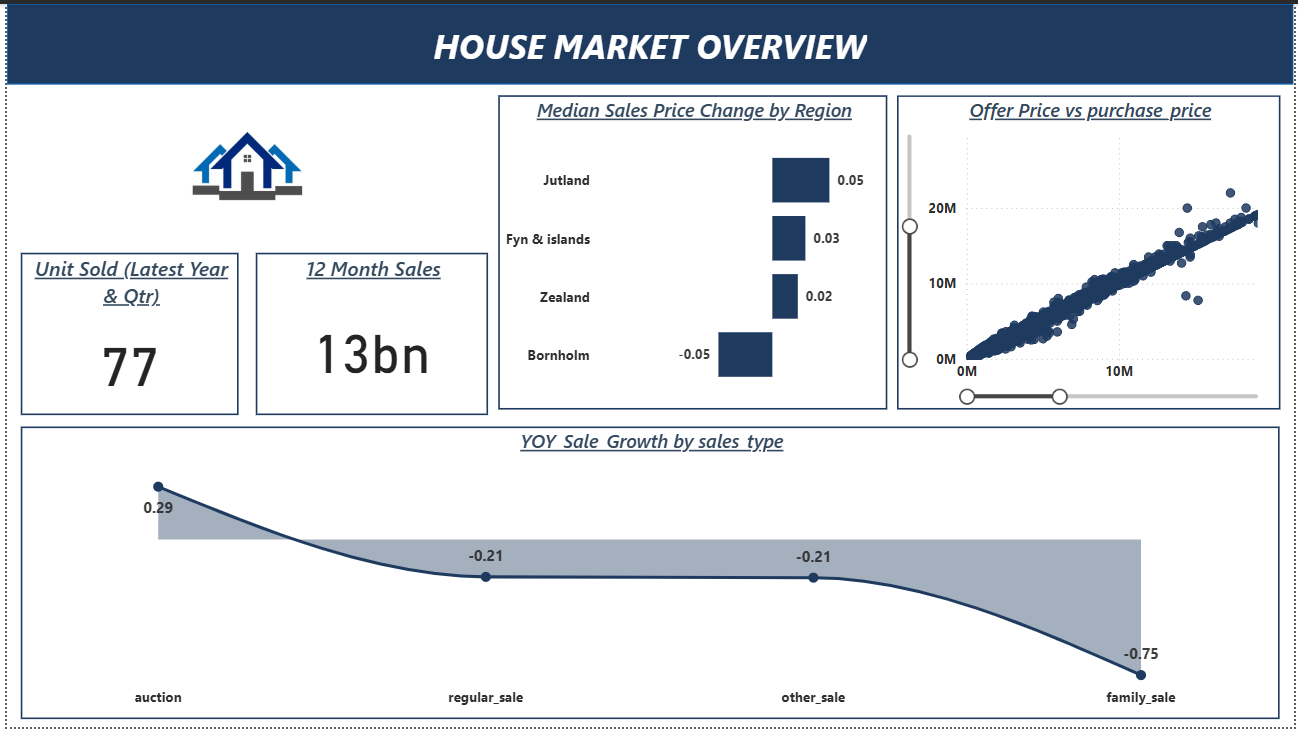

The page's visual inventory and layout, read from the dashboard file:
{"tool":"powerbi","page":{"name":"HOUSE MARKET OVERVIEW","canvas":[1280,720],"ordinal":0},"visuals":[{"type":"image","box":[0,79.6,478.9,163.3],"z":0},{"type":"shape","box":[0,0,1280.3,80],"z":1000},{"type":"card","title":"Unit Sold (Latest Year & Qtr)","fields":{"Values":["Measure Table 1.Units Sold In Latest Year & Quarter"]},"box":[14.3,247.1,217.1,161.4],"z":2000},{"type":"scatterChart","title":"Offer Price vs purchase_price","fields":{"X":["Housing.Offer Price"],"Y":["Housing.purchase_price"]},"box":[885.7,91.4,381.4,312.9],"z":3000},{"type":"card","title":"12 Month Sales","fields":{"Values":["Measure Table 1.Last 12 Month Sales"]},"box":[247.1,247.1,231.4,161.4],"z":4000},{"type":"lineChart","fields":{"Y":["Measure Table 1.YOY_Sale_Growth"],"Category":["Housing.sales_type"]},"box":[14.3,420,1252.9,291.4],"z":5000},{"type":"barChart","title":"Median Sales Price Change by Region","fields":{"Category":["Housing.region"],"Y":["Measure Table 1.Median Sales Price Change"]},"box":[488.6,91.4,387.1,312.9],"z":6000}]}

Visuals, with their boxes in screenshot pixels (x1, y1, x2, y2), scaled from the page's 1280x720 canvas onto the 1298x729 screenshot:
image: <region>0, 81, 486, 246</region>
shape: <region>0, 0, 1297, 81</region>
"Unit Sold (Latest Year & Qtr)" card: <region>15, 250, 235, 414</region>
"Offer Price vs purchase_price" scatterChart: <region>898, 93, 1285, 409</region>
"12 Month Sales" card: <region>251, 250, 485, 414</region>
lineChart - Measure Table 1.YOY_Sale_Growth x Housing.sales_type: <region>15, 425, 1285, 720</region>
"Median Sales Price Change by Region" barChart: <region>495, 93, 888, 409</region>
